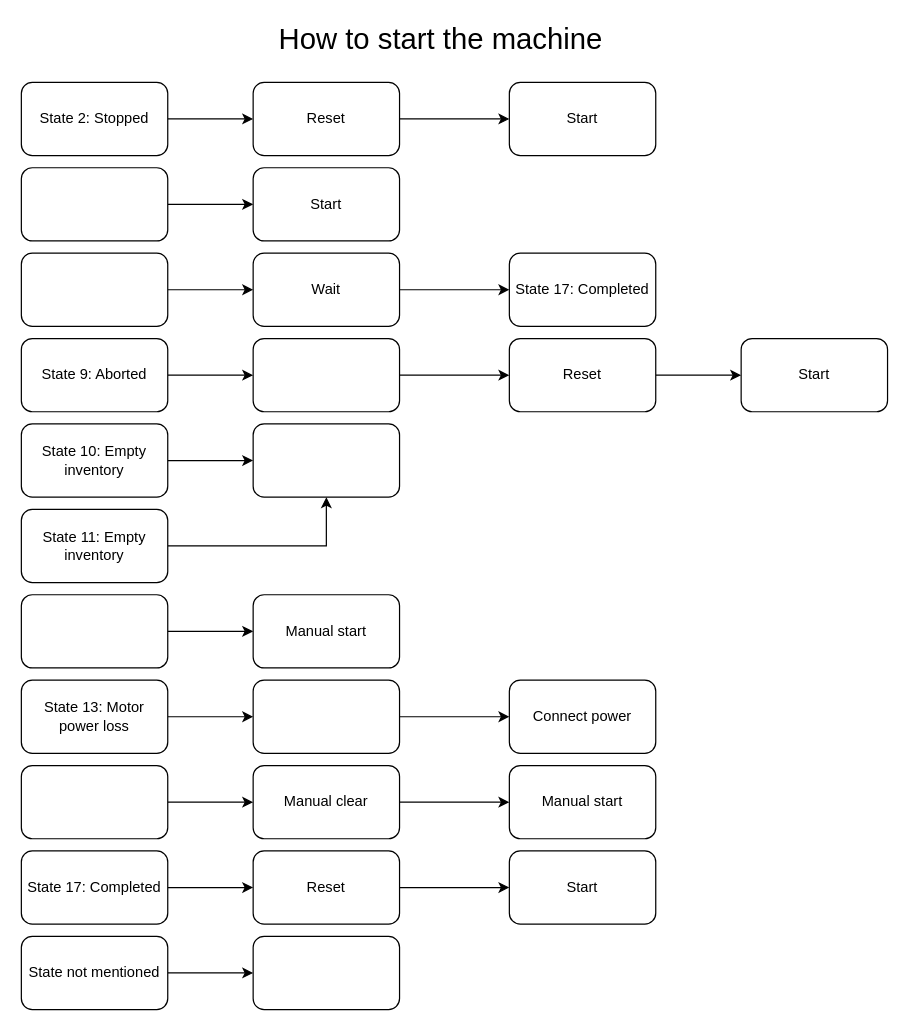
Image size: 909x1031. Some labels were removed from this diagram. Each missing label, with the centre of its shape:
"Abort" goes at (326,972).
"Clear" goes at (326,374).
"Manual reset/maintenance" goes at (326,460).
"Manual stop" goes at (326,716).
"State 12: Manual stop" goes at (94,631).
"State 14: Manual abort" goes at (94,801).
"State 4: Idle" goes at (94,204).
"State 6: Executing" goes at (94,289).
